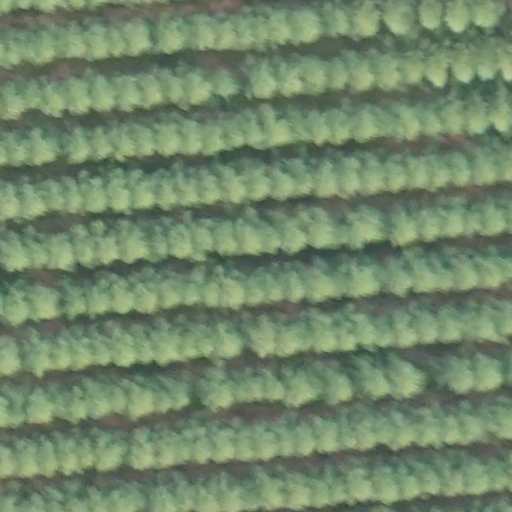eucalipto: (385, 352, 430, 401), (279, 362, 324, 406), (305, 205, 350, 249), (203, 266, 246, 312), (349, 359, 391, 405), (239, 56, 280, 101), (432, 351, 472, 397), (91, 425, 127, 474), (467, 352, 506, 397), (308, 108, 352, 147), (113, 219, 150, 265), (201, 365, 237, 412), (25, 281, 63, 324), (341, 259, 383, 297), (244, 268, 285, 306), (411, 95, 444, 141), (288, 6, 326, 45), (23, 382, 55, 428), (386, 202, 419, 246), (21, 332, 53, 377), (463, 92, 494, 138), (104, 272, 136, 316), (162, 217, 194, 261), (207, 60, 241, 101), (175, 65, 210, 104), (43, 231, 76, 272), (384, 254, 414, 299), (63, 75, 94, 118), (210, 320, 243, 360), (153, 15, 186, 55), (59, 126, 92, 166), (370, 51, 403, 91), (70, 223, 99, 268), (217, 162, 248, 204), (440, 1, 475, 38), (118, 20, 152, 58), (151, 118, 182, 159), (442, 147, 473, 188), (121, 380, 152, 420), (335, 155, 363, 199), (380, 1, 417, 34), (189, 11, 219, 51), (26, 128, 58, 165), (448, 43, 475, 85), (323, 54, 351, 93), (208, 424, 236, 463), (62, 175, 87, 217), (400, 50, 428, 87), (131, 121, 155, 160), (41, 177, 66, 213), (416, 1, 444, 33)
